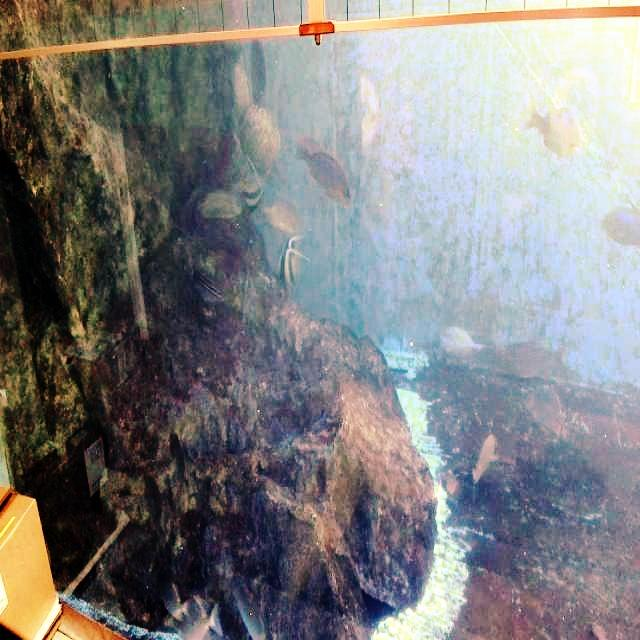Plectorhinchus lessonii: (180, 249, 238, 313)
angelfish: (274, 222, 312, 296), (238, 155, 268, 224)
gold snapper: (516, 75, 592, 165), (292, 124, 363, 220)
